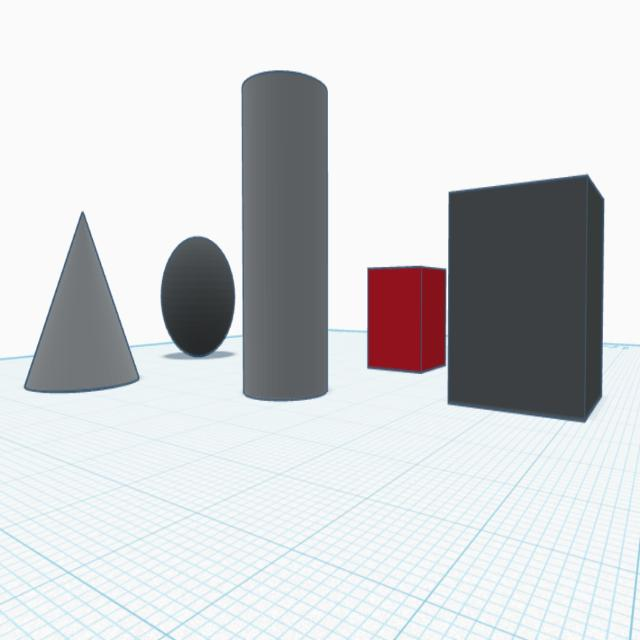cone: (23, 202, 142, 400)
cube: (446, 169, 607, 428), (365, 261, 449, 377)
sphere: (159, 234, 236, 359)
